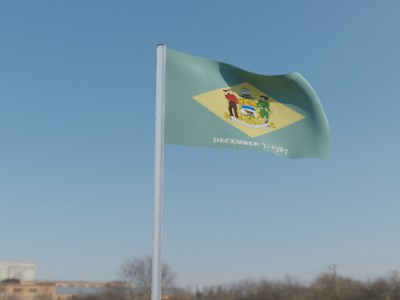Delaware flag: (163, 46, 333, 158)
